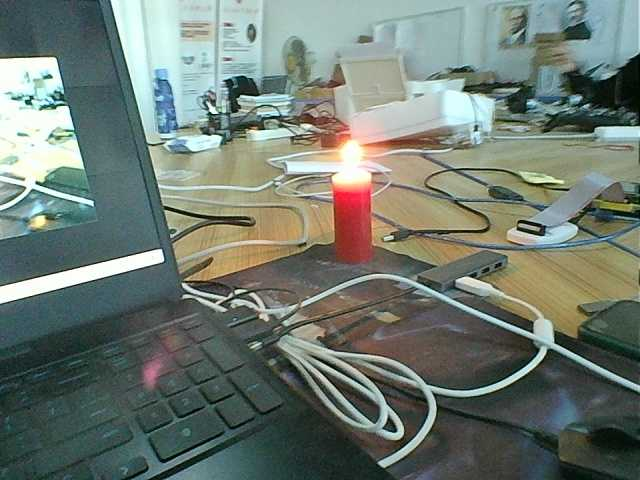candle: (323, 181, 385, 269)
fire: (330, 136, 372, 180)
